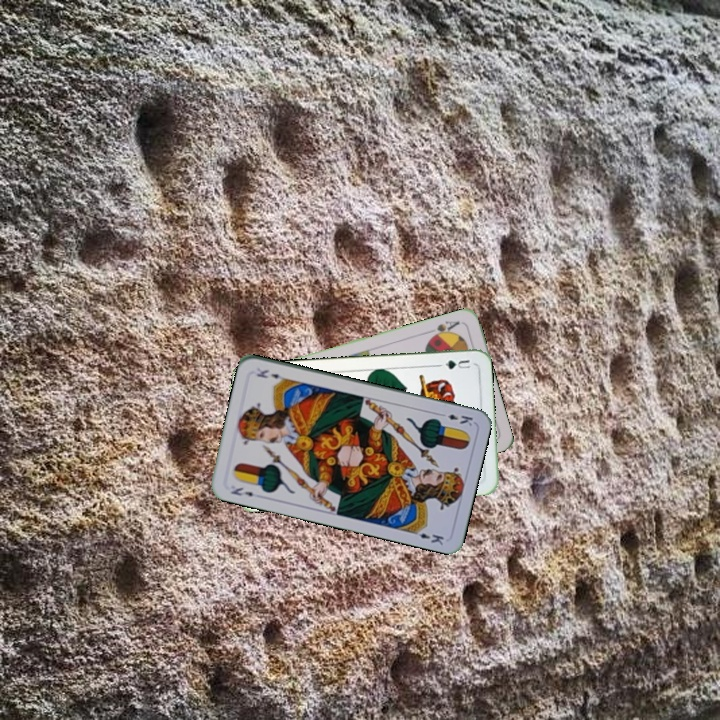EK: (435, 409, 475, 429), (227, 483, 263, 500)
GU: (435, 356, 473, 372)
SA: (424, 316, 462, 341)
